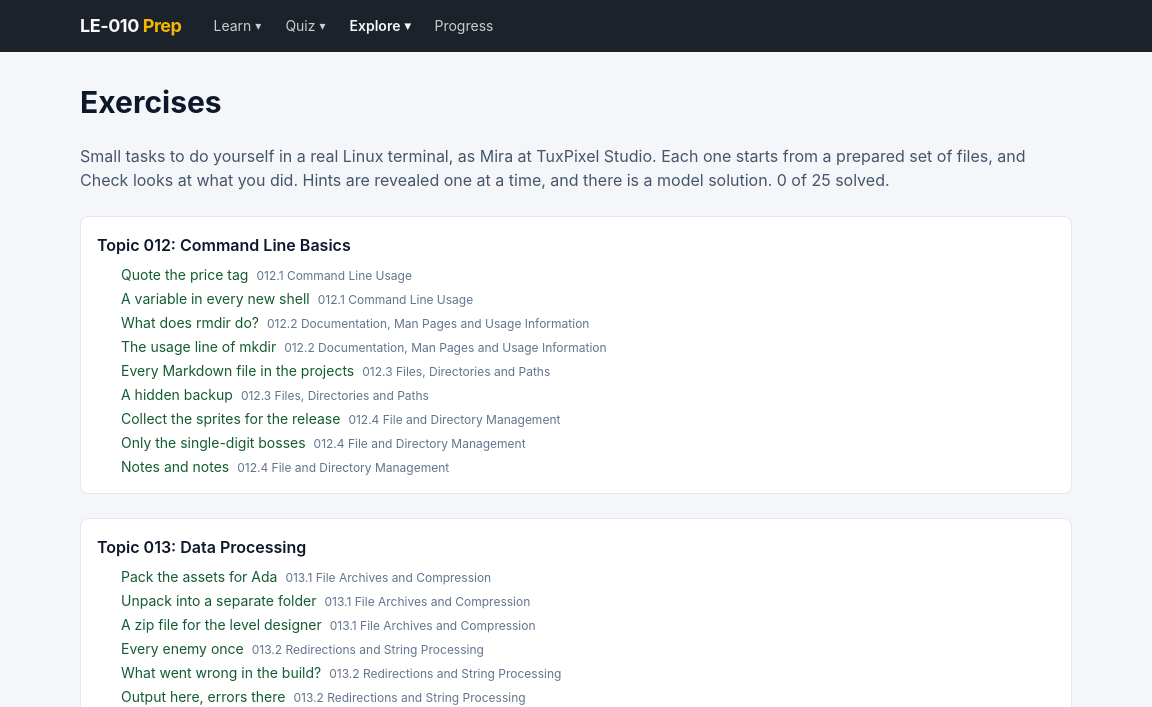
Test case: pages › lists the exercises and opens one with its prompt and hints
Expected: the heading "Exercises" is shown, [80,84,222,120]
What coordinates should you click on to do the following:
click the link "Pack the assets for Ada"
I would click on:
 (199, 577)
Its box is [121,567,277,587].
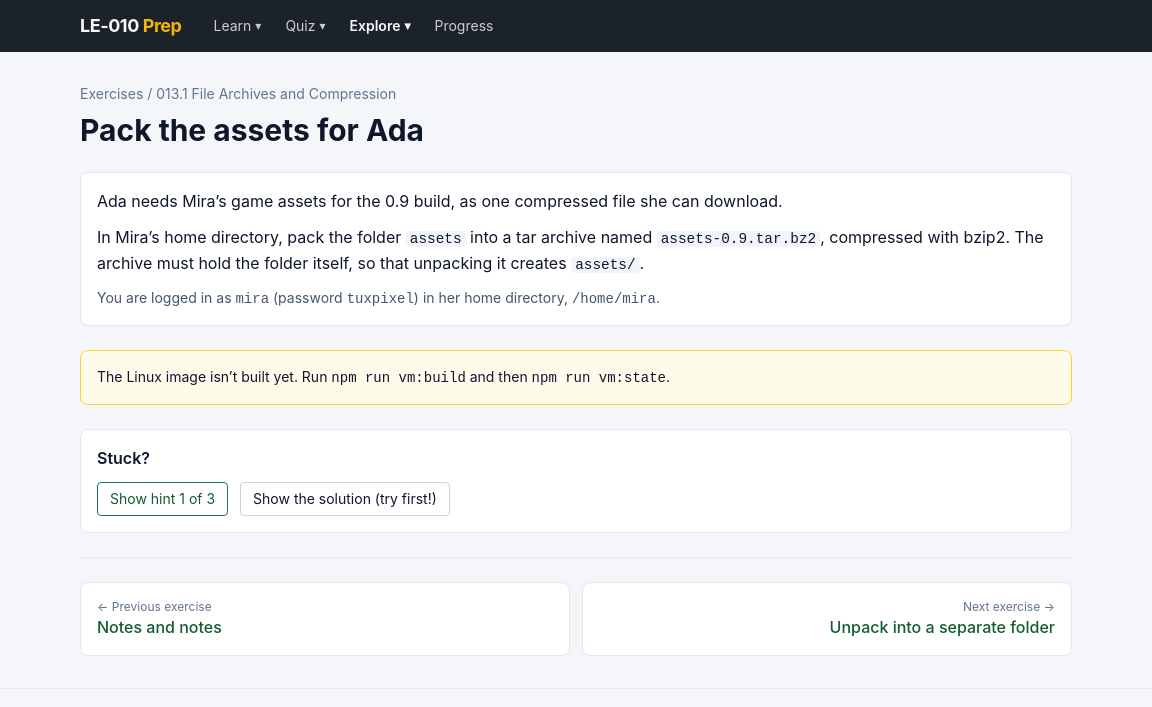
Result: the heading "Pack the assets for Ada" is shown at [80,112,424,148]
Result: the text "isn’t built yet" is shown at [97,368,331,385]
What coordinates should you click on to do the following:
click the button "Show hint 1 of 3"
I would click on:
 (163, 499)
Its box is [97,482,228,516].
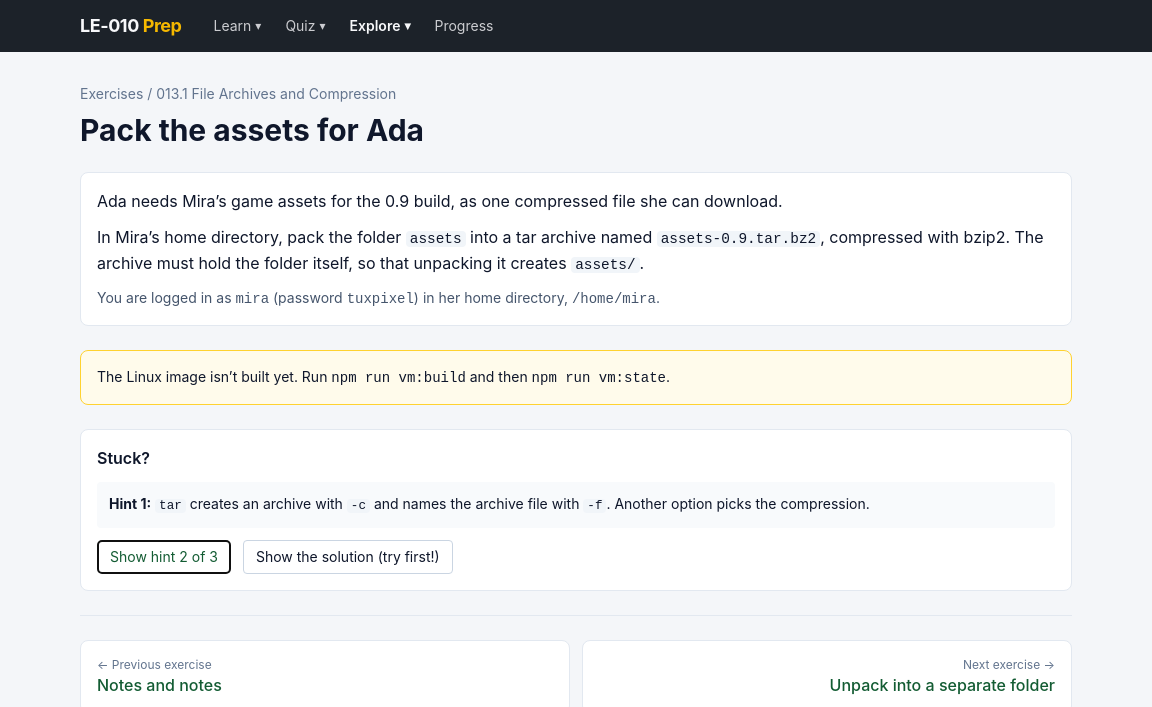
Result: the text "Hint 1:" is shown at [109,495,151,512]
